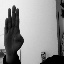b: (2, 4, 26, 57)
